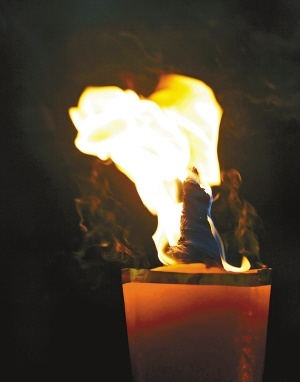fire: (70, 68, 229, 267)
